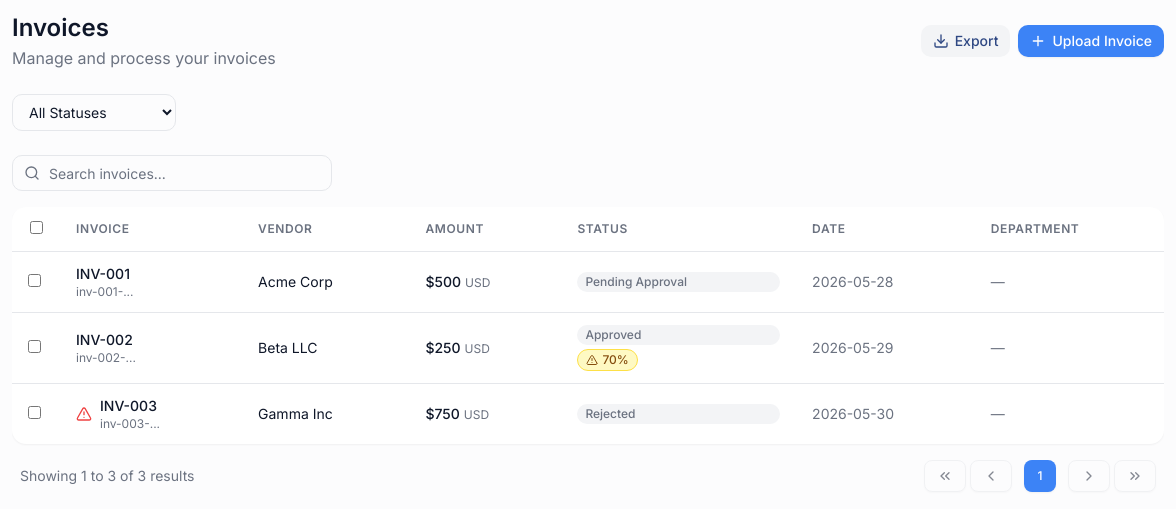
Test: InvoicesPage › clear button deselects all rows
Expected: the text "INV-001" is shown, [76, 264, 134, 284]
# Select all
What coordinates should you click on to do the following:
click the checkbox in the row of "Vendor"
I would click on:
 (36, 228)
Its box is [30, 221, 42, 234].
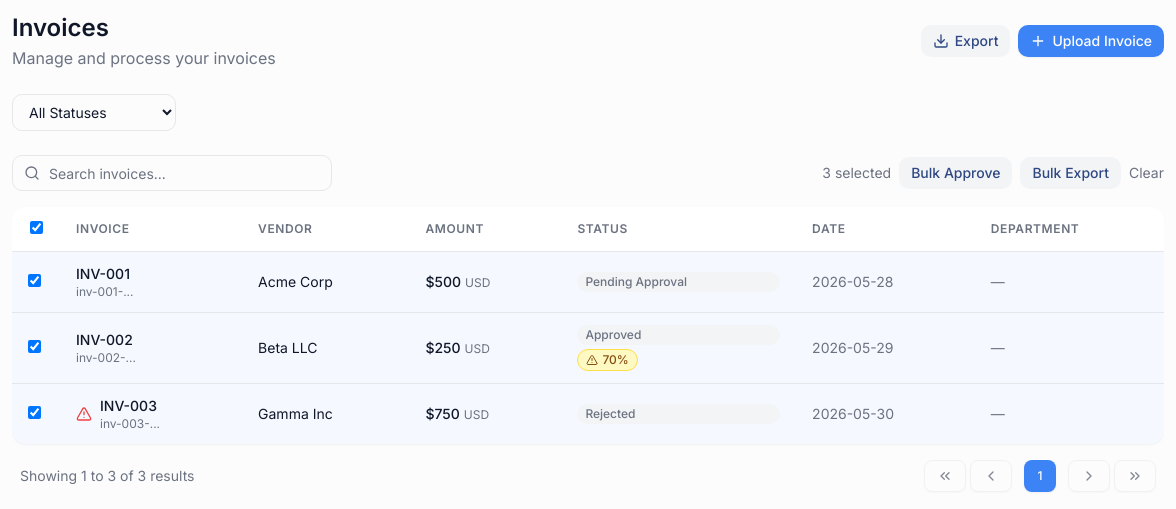
Now the text "3 selected" is shown, box [822, 163, 891, 183]
# Click clear
What coordinates should you click on to do the following:
click the button "Clear"
I would click on:
 (1146, 173)
Its box is [1129, 163, 1164, 183].
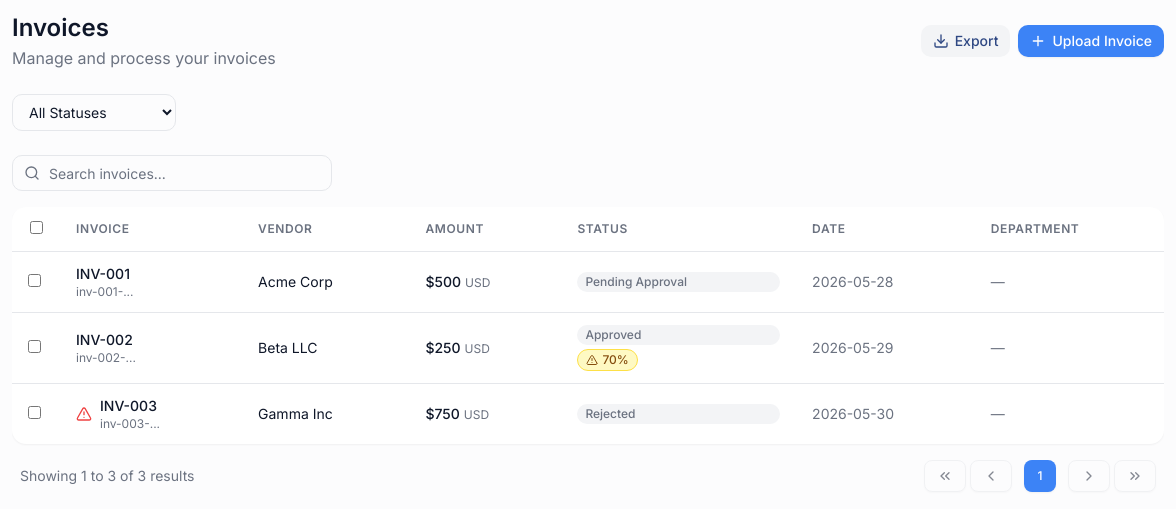
Now the text "3 selected" is not shown
